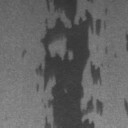red iron: (36, 0, 106, 128), (124, 99, 128, 114), (126, 34, 128, 51), (86, 0, 94, 4), (22, 50, 26, 58), (105, 46, 108, 54), (105, 8, 107, 14)
